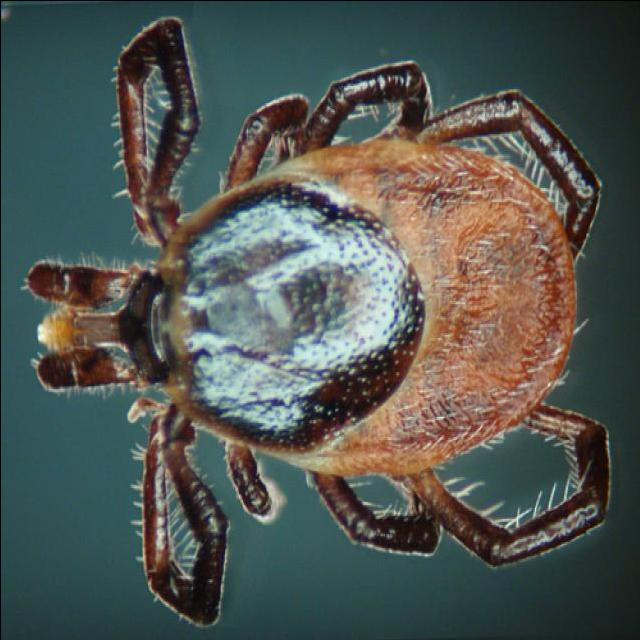Ixodes Ricinus-F: (20, 14, 612, 626)
